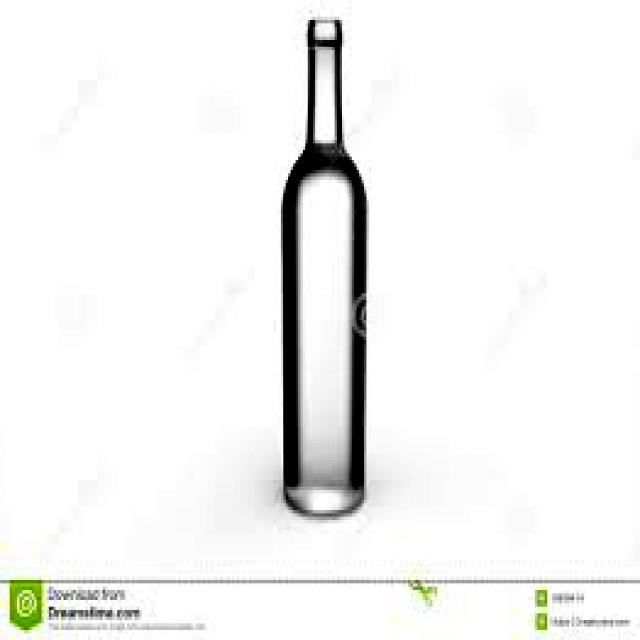Glass: (277, 16, 373, 522)
